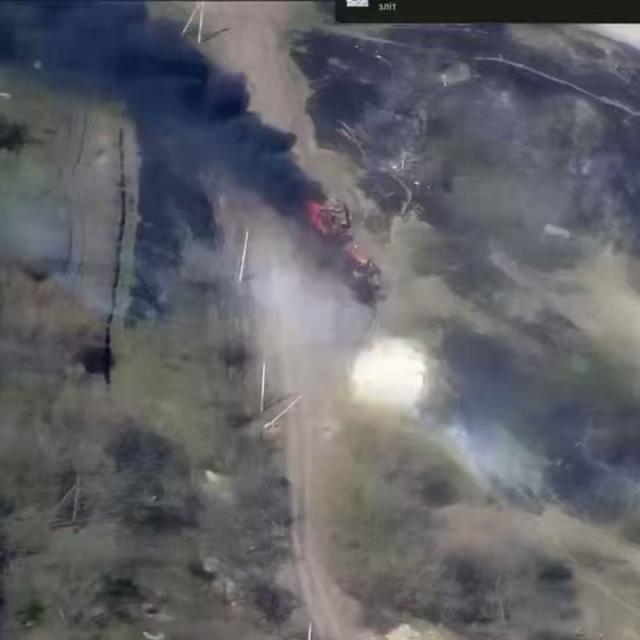destroyed: (318, 200, 349, 231), (351, 263, 381, 290)
